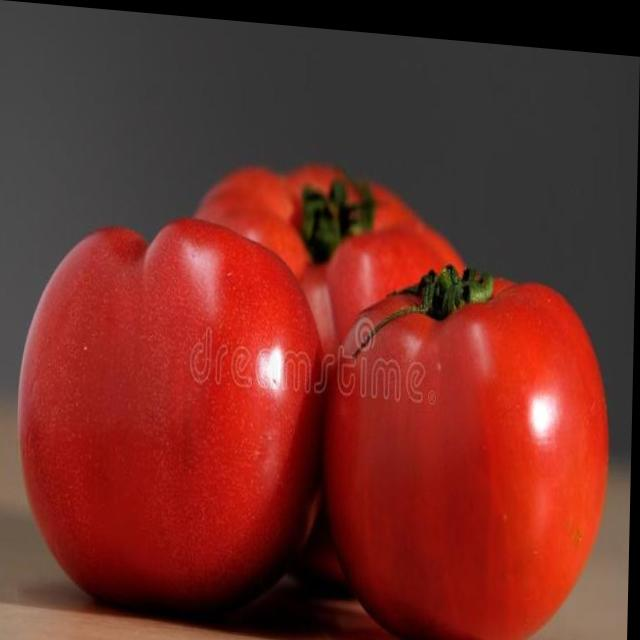kirmizi: (0, 126, 610, 640)
